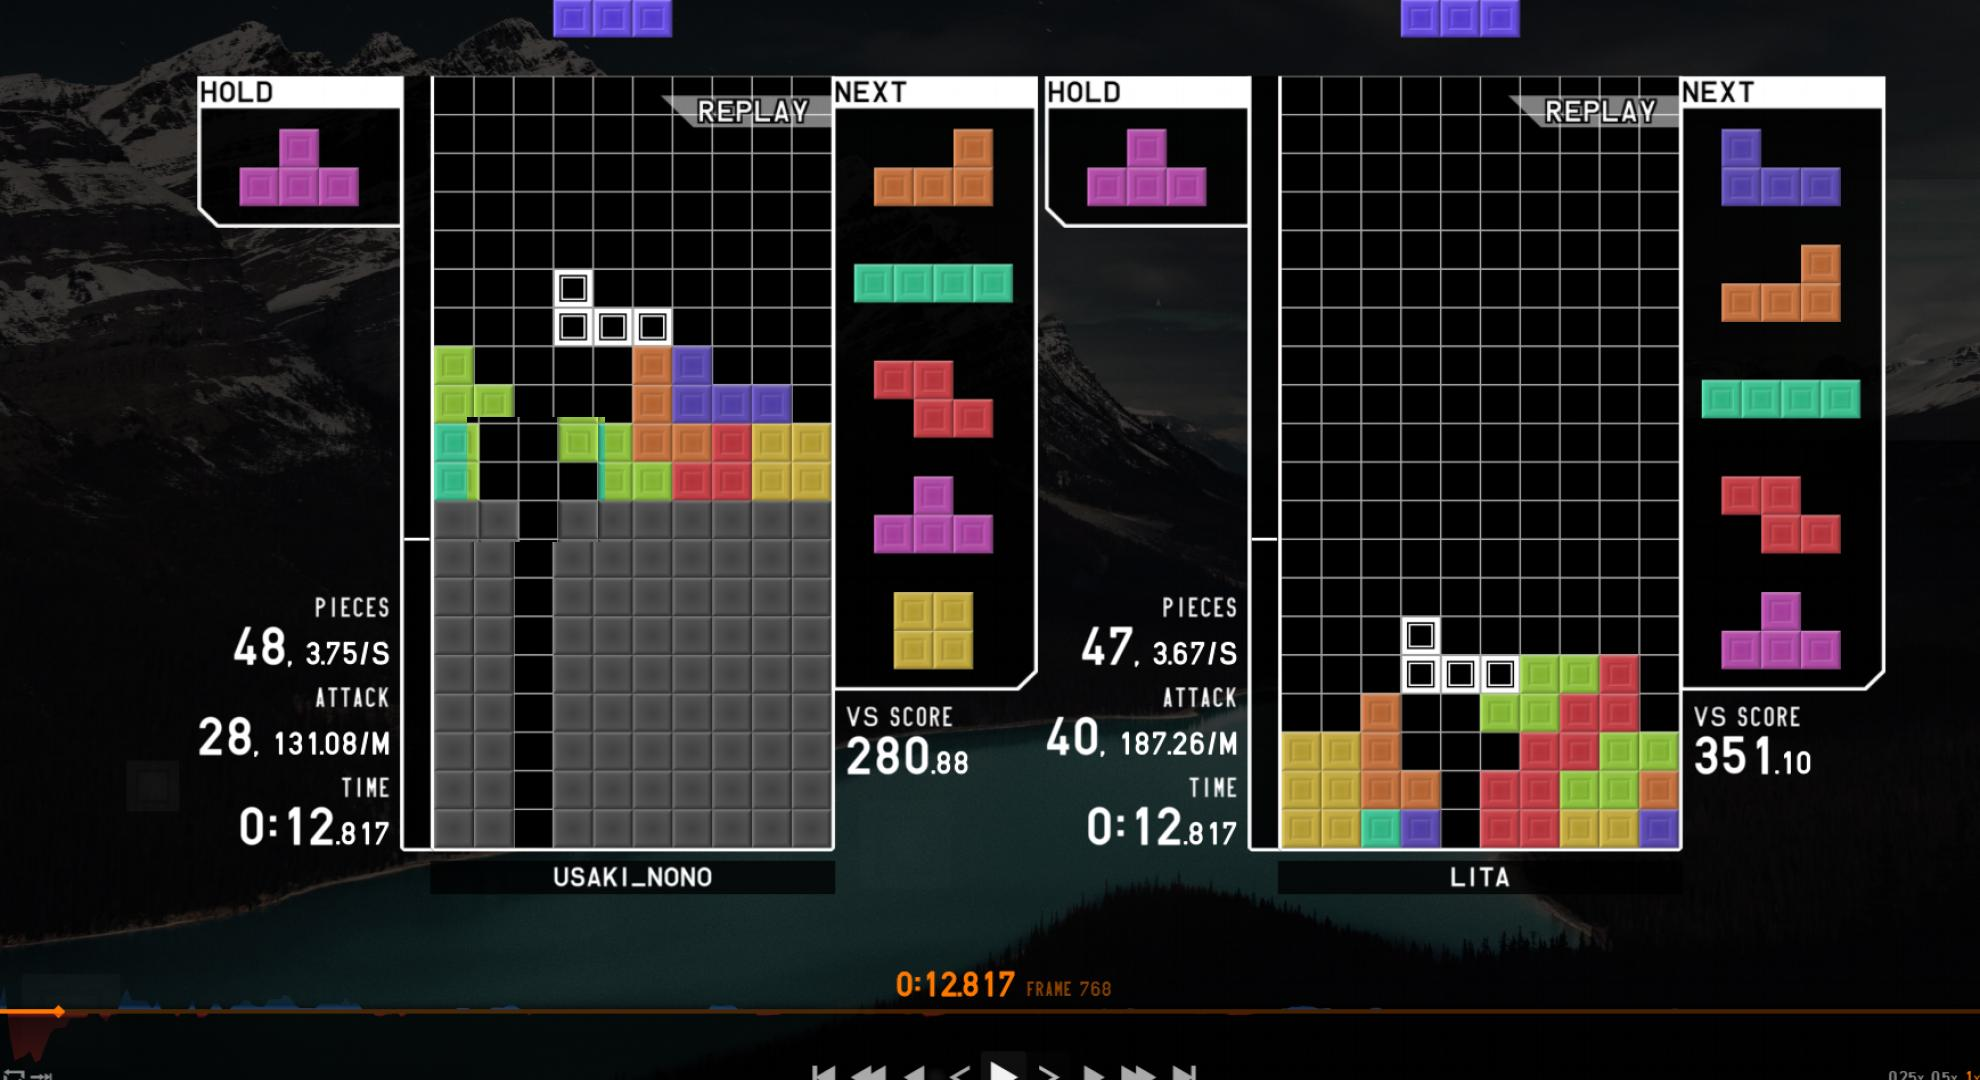tspin: (467, 418, 605, 543), (1400, 689, 1524, 814)
